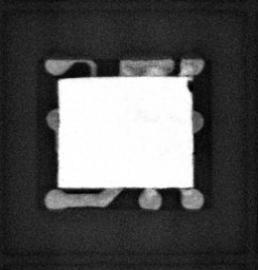DIE_BROKEN: (185, 78, 194, 92)
